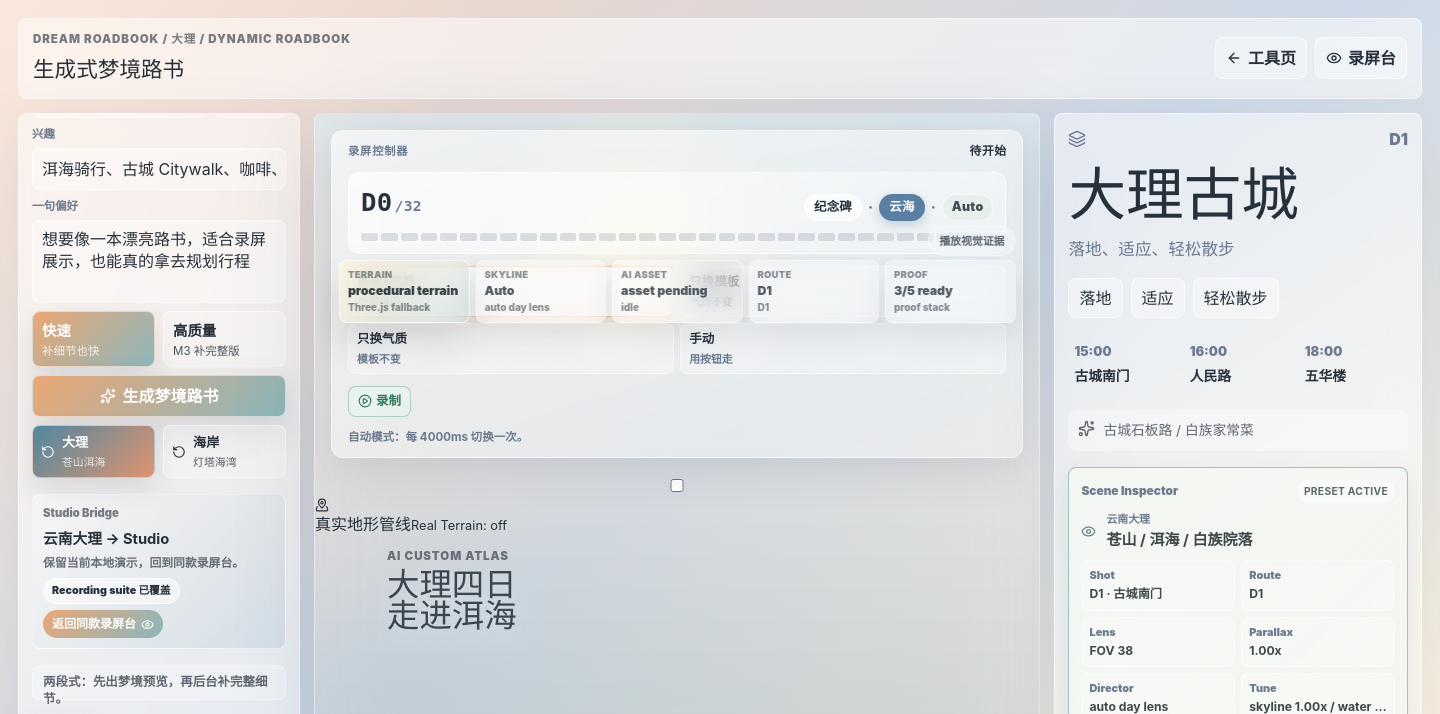
Test: DreamRoadbook a11y polish › updates the template rendering strategy when switching demo roadbooks
The width and height of the screenshot is (1440, 714).
(page scrolled)
Click the button "海岸 灯塔海湾": (224, 452) [163,425,286,478]
(page scrolled)
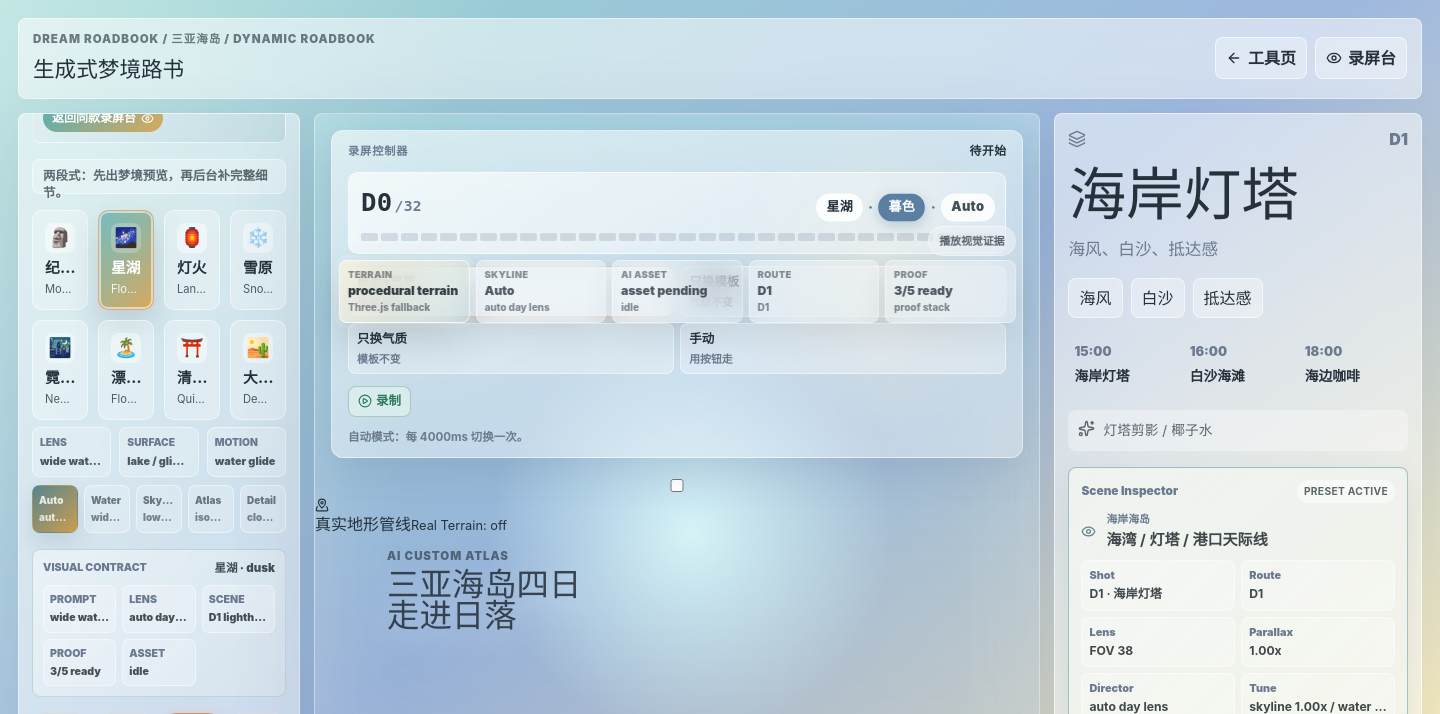
expect the element named "当前模板渲染策略" shows "wide waterline": met, box [40,454,120,468]
expect the element named "当前模板渲染策略" shows "lake / glint / island": met, box [127,454,226,468]
expect the element named "当前模板渲染策略" shows "water glide": met, box [215,454,276,468]
